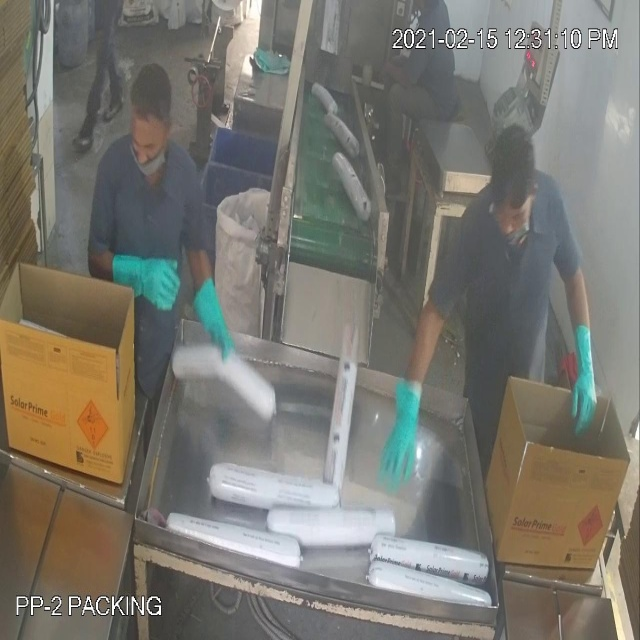Guantes: (105, 233, 182, 332), (379, 354, 426, 493), (564, 301, 604, 452), (183, 269, 234, 368)
